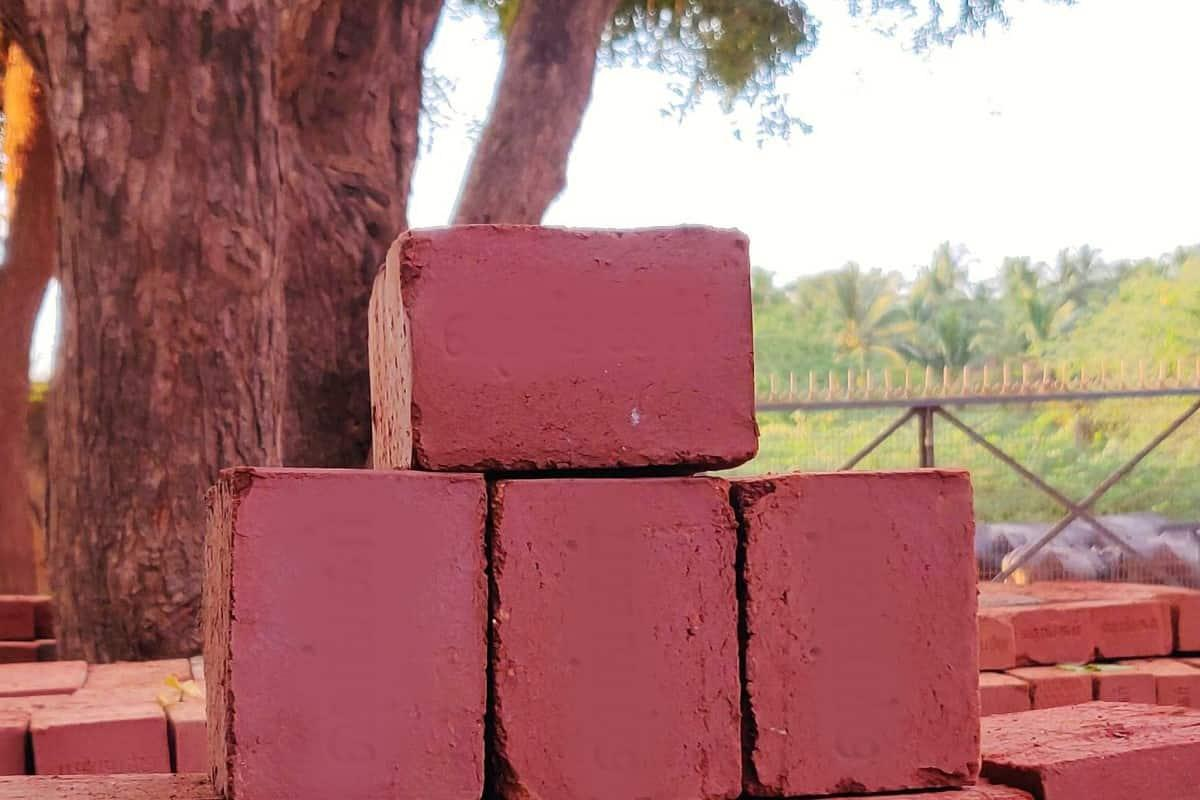brick: (402, 226, 758, 472), (226, 472, 486, 796), (498, 478, 744, 796), (750, 472, 978, 796)
